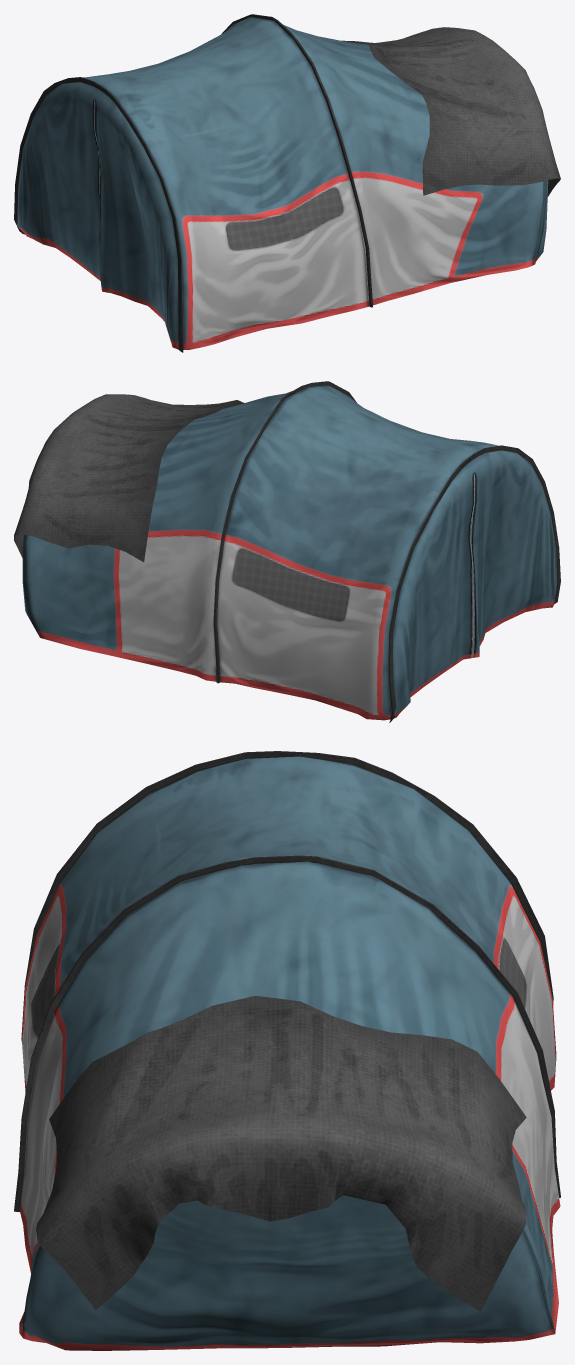
File: MB_Tent_02.fbx
The picture shows the model from 3 angles, top to bottom: view 1: azimuth 30°, elevation 25°; view 2: azimuth 150°, elevation 25°; view 3: azimuth 270°, elevation 25°; orthographic projection. The views are drawn at different scales.
Parts seen in each view (by area): view 1: MB_Tent_02_LOD0; view 2: MB_Tent_02_LOD0; view 3: MB_Tent_02_LOD0.
Boxes of the visible parts, x1,y1,x2,y2 form: MB_Tent_02_LOD0: (14,14,560,352); MB_Tent_02_LOD0: (14,381,560,722); MB_Tent_02_LOD0: (14,751,560,1350).
Size of what is drawn, in the model's own units: 395 by 205 by 284.
